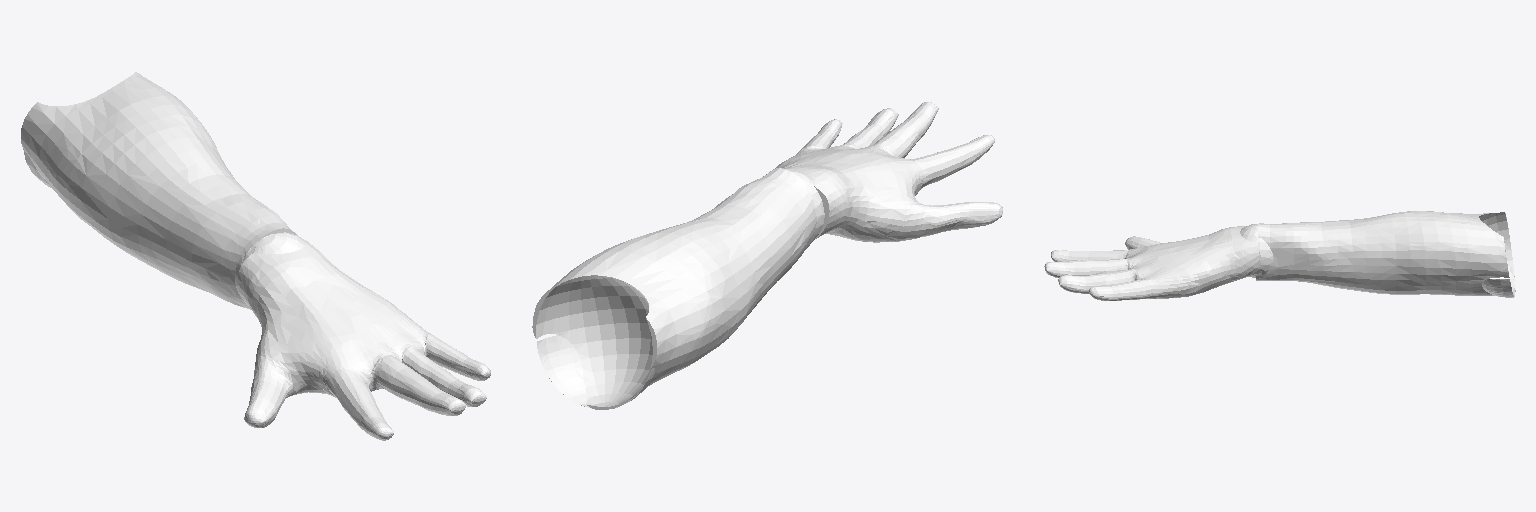
The robot description file, URDF, robot "arm_urdf":
<?xml version="1.0" encoding="utf-8"?>
<!-- This URDF was automatically created by SolidWorks to URDF Exporter! Originally created by [author] ([email redacted]) 
     Commit Version: 1.6.0-1-g15f4949  Build Version: 1.6.7594.29634
     For more information, please see http://wiki.ros.org/sw_urdf_exporter -->
<robot
  name="arm_urdf">
  <link
    name="base_link">
    <inertial>
      <origin
        xyz="0 0 0"
        rpy="0 0 0" />
      <mass
        value="1.9512" />
      <inertia
        ixx="0.030606"
        ixy="-0.00014646"
        ixz="0.00026364"
        iyy="0.031076"
        iyz="0.0015738"
        izz="0.0021774" />
    </inertial>
    <visual>
      <origin
        xyz="0 0 0"
        rpy="0 0 0" />
      <geometry>
        <mesh
          filename="package://arm_urdf/meshes/base_link.STL" />
      </geometry>
      <material
        name="">
        <color
          rgba="1 1 1 1" />
      </material>
    </visual>
    <collision>
      <origin
        xyz="0 0 0"
        rpy="0 0 0" />
      <geometry>
        <mesh
          filename="package://arm_urdf/meshes/base_link.STL" />
      </geometry>
    </collision>
  </link>
</robot>

--- Facts derived from the render (not from the file) ---
The picture shows the robot from 3 angles, left to right: view 1: azimuth 30°, elevation 25°; view 2: azimuth 150°, elevation 25°; view 3: azimuth 270°, elevation 25°; orthographic projection.
Model arm_urdf with 1 links and 0 joints (none), rooted at base_link, posed all joints at 0.
Visible links, largest first — view 1: base_link; view 2: base_link; view 3: base_link.
Boxes of the visible links, bbox=[...] form: base_link: bbox=[21, 72, 490, 440]; base_link: bbox=[532, 102, 1002, 409]; base_link: bbox=[1044, 211, 1515, 300].
Bounding box of the posed robot: 0.1749 × 0.5184 × 0.0966 m (x, y, z).
1 mesh visuals loaded from 1 distinct referenced files (1 binary STL).